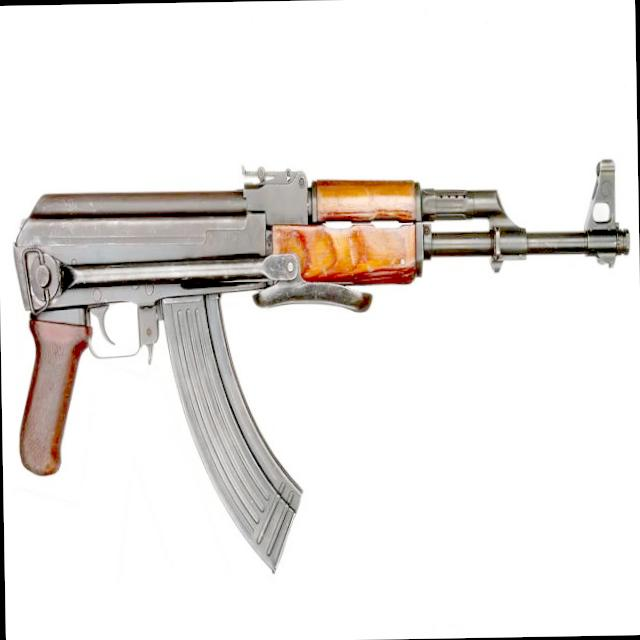ak: (10, 152, 632, 580)
